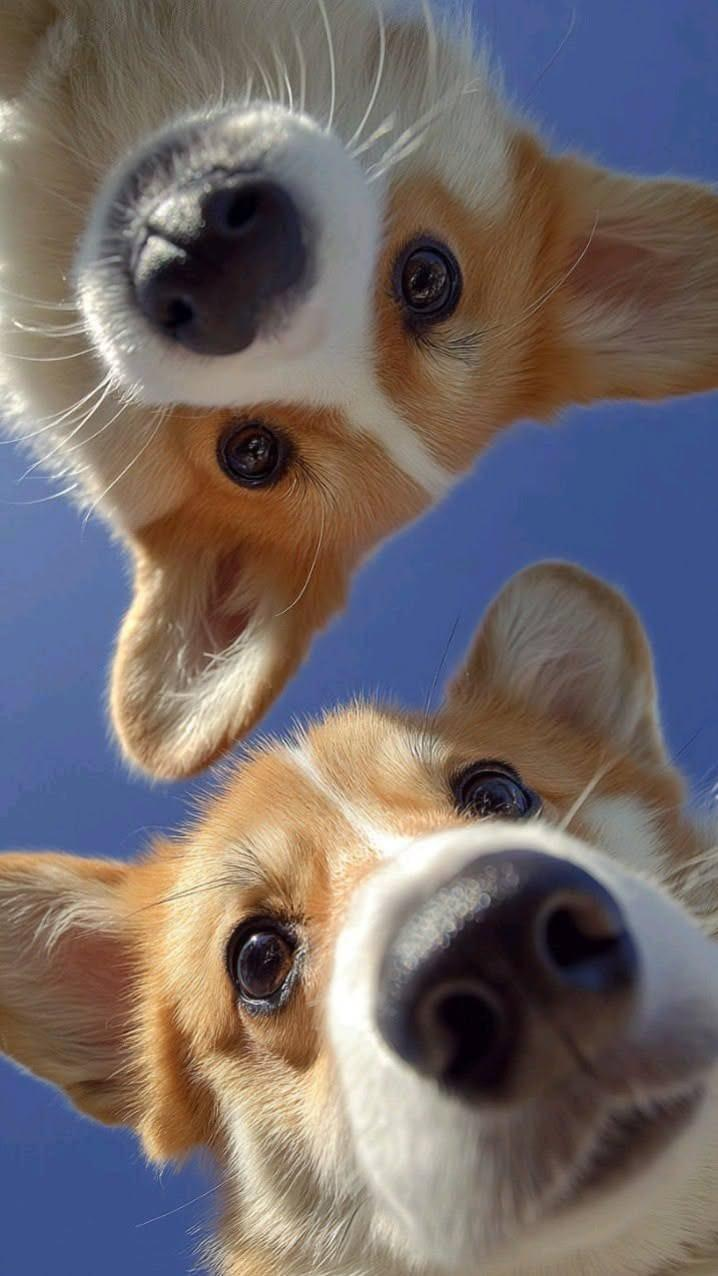adult_dog: (0, 0, 718, 782), (0, 556, 718, 1276)
